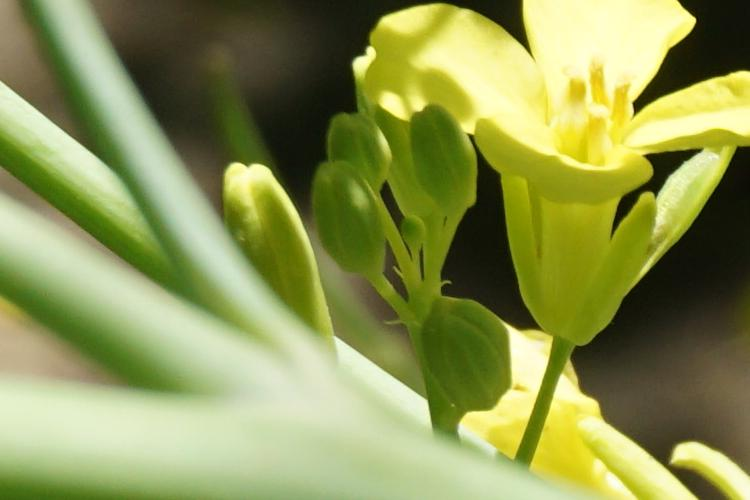bud: (233, 163, 314, 317), (415, 304, 514, 409), (309, 169, 380, 278), (412, 112, 477, 211), (328, 119, 388, 189), (401, 212, 427, 256)
yellow: (385, 15, 728, 326)
